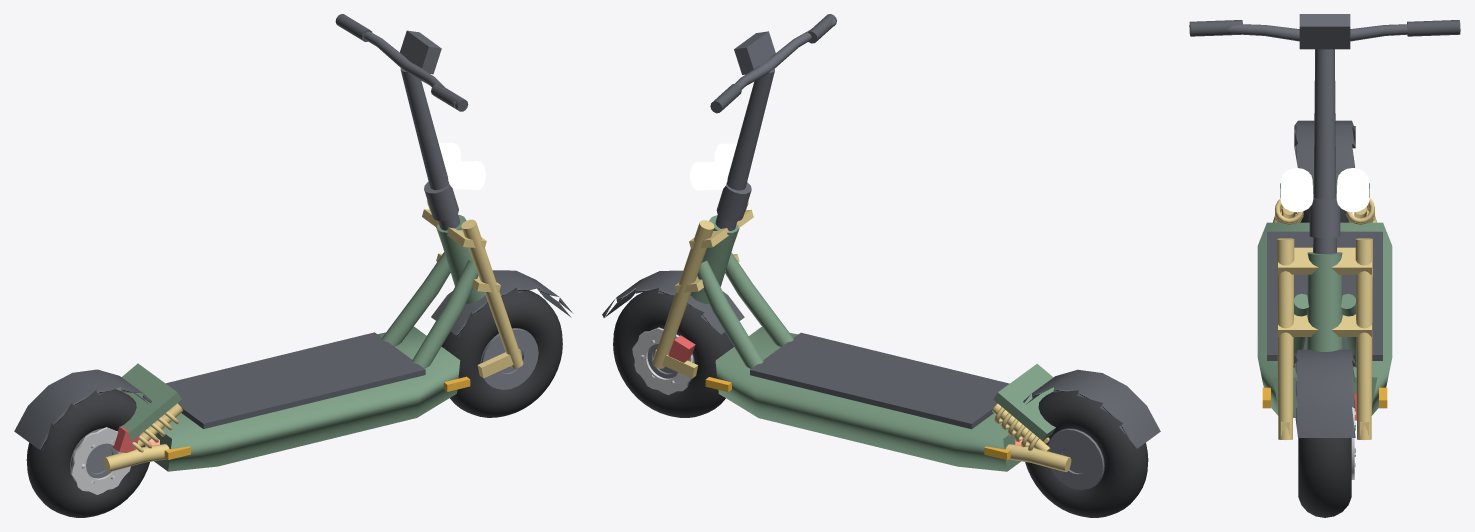
The model's file is hyperscooter.glb.
The picture shows the model from 3 angles, left to right: view 1: azimuth 30°, elevation 25°; view 2: azimuth 150°, elevation 25°; view 3: azimuth 270°, elevation 25°; orthographic projection. The views are drawn at different scales.
Visible parts, largest first — view 1: deck_frame_chassis, fender_pad_deck, front_wheel_tire, rear_wheel_tire, cockpit_stem_tft, fork_shock_suspension, front_wheel_motor_hub, rear_wheel_rotor, headlight_dual_led, grip_handles, rear_wheel_motor_hub; view 2: deck_frame_chassis, fender_pad_deck, rear_wheel_tire, front_wheel_tire, cockpit_stem_tft, fork_shock_suspension, rear_wheel_motor_hub, front_wheel_rotor, headlight_dual_led, grip_handles; view 3: fender_pad_deck, fork_shock_suspension, deck_frame_chassis, cockpit_stem_tft, front_wheel_tire, headlight_dual_led, grip_handles.
Boxes of the visible parts, x1=… form: deck_frame_chassis: x1=116, y1=215, x2=485, y2=471; fender_pad_deck: x1=14, y1=270, x2=573, y2=450; front_wheel_tire: x1=441, y1=287, x2=562, y2=417; rear_wheel_tire: x1=26, y1=389, x2=149, y2=517; cockpit_stem_tft: x1=364, y1=30, x2=459, y2=230; fork_shock_suspension: x1=103, y1=199, x2=523, y2=471; front_wheel_motor_hub: x1=480, y1=328, x2=538, y2=389; rear_wheel_rotor: x1=70, y1=427, x2=130, y2=494; headlight_dual_led: x1=438, y1=143, x2=485, y2=189; grip_handles: x1=335, y1=14, x2=468, y2=111; rear_wheel_motor_hub: x1=70, y1=428, x2=117, y2=482; deck_frame_chassis: x1=690, y1=215, x2=1055, y2=471; fender_pad_deck: x1=602, y1=270, x2=1160, y2=448; rear_wheel_tire: x1=1025, y1=390, x2=1148, y2=517; front_wheel_tire: x1=613, y1=288, x2=733, y2=417; cockpit_stem_tft: x1=715, y1=19, x2=836, y2=230; fork_shock_suspension: x1=652, y1=200, x2=1071, y2=472; rear_wheel_motor_hub: x1=1048, y1=428, x2=1104, y2=489; front_wheel_rotor: x1=632, y1=327, x2=692, y2=395; headlight_dual_led: x1=690, y1=143, x2=736, y2=190; grip_handles: x1=710, y1=14, x2=836, y2=113; fender_pad_deck: x1=1267, y1=120, x2=1382, y2=437; fork_shock_suspension: x1=1273, y1=198, x2=1376, y2=440; deck_frame_chassis: x1=1257, y1=183, x2=1392, y2=417; cockpit_stem_tft: x1=1227, y1=14, x2=1407, y2=253; front_wheel_tire: x1=1298, y1=438, x2=1351, y2=517; headlight_dual_led: x1=1280, y1=168, x2=1369, y2=212; grip_handles: x1=1189, y1=20, x2=1460, y2=36.
Bounding box in the file's own units: 1.88 × 1.33 × 0.7234.
